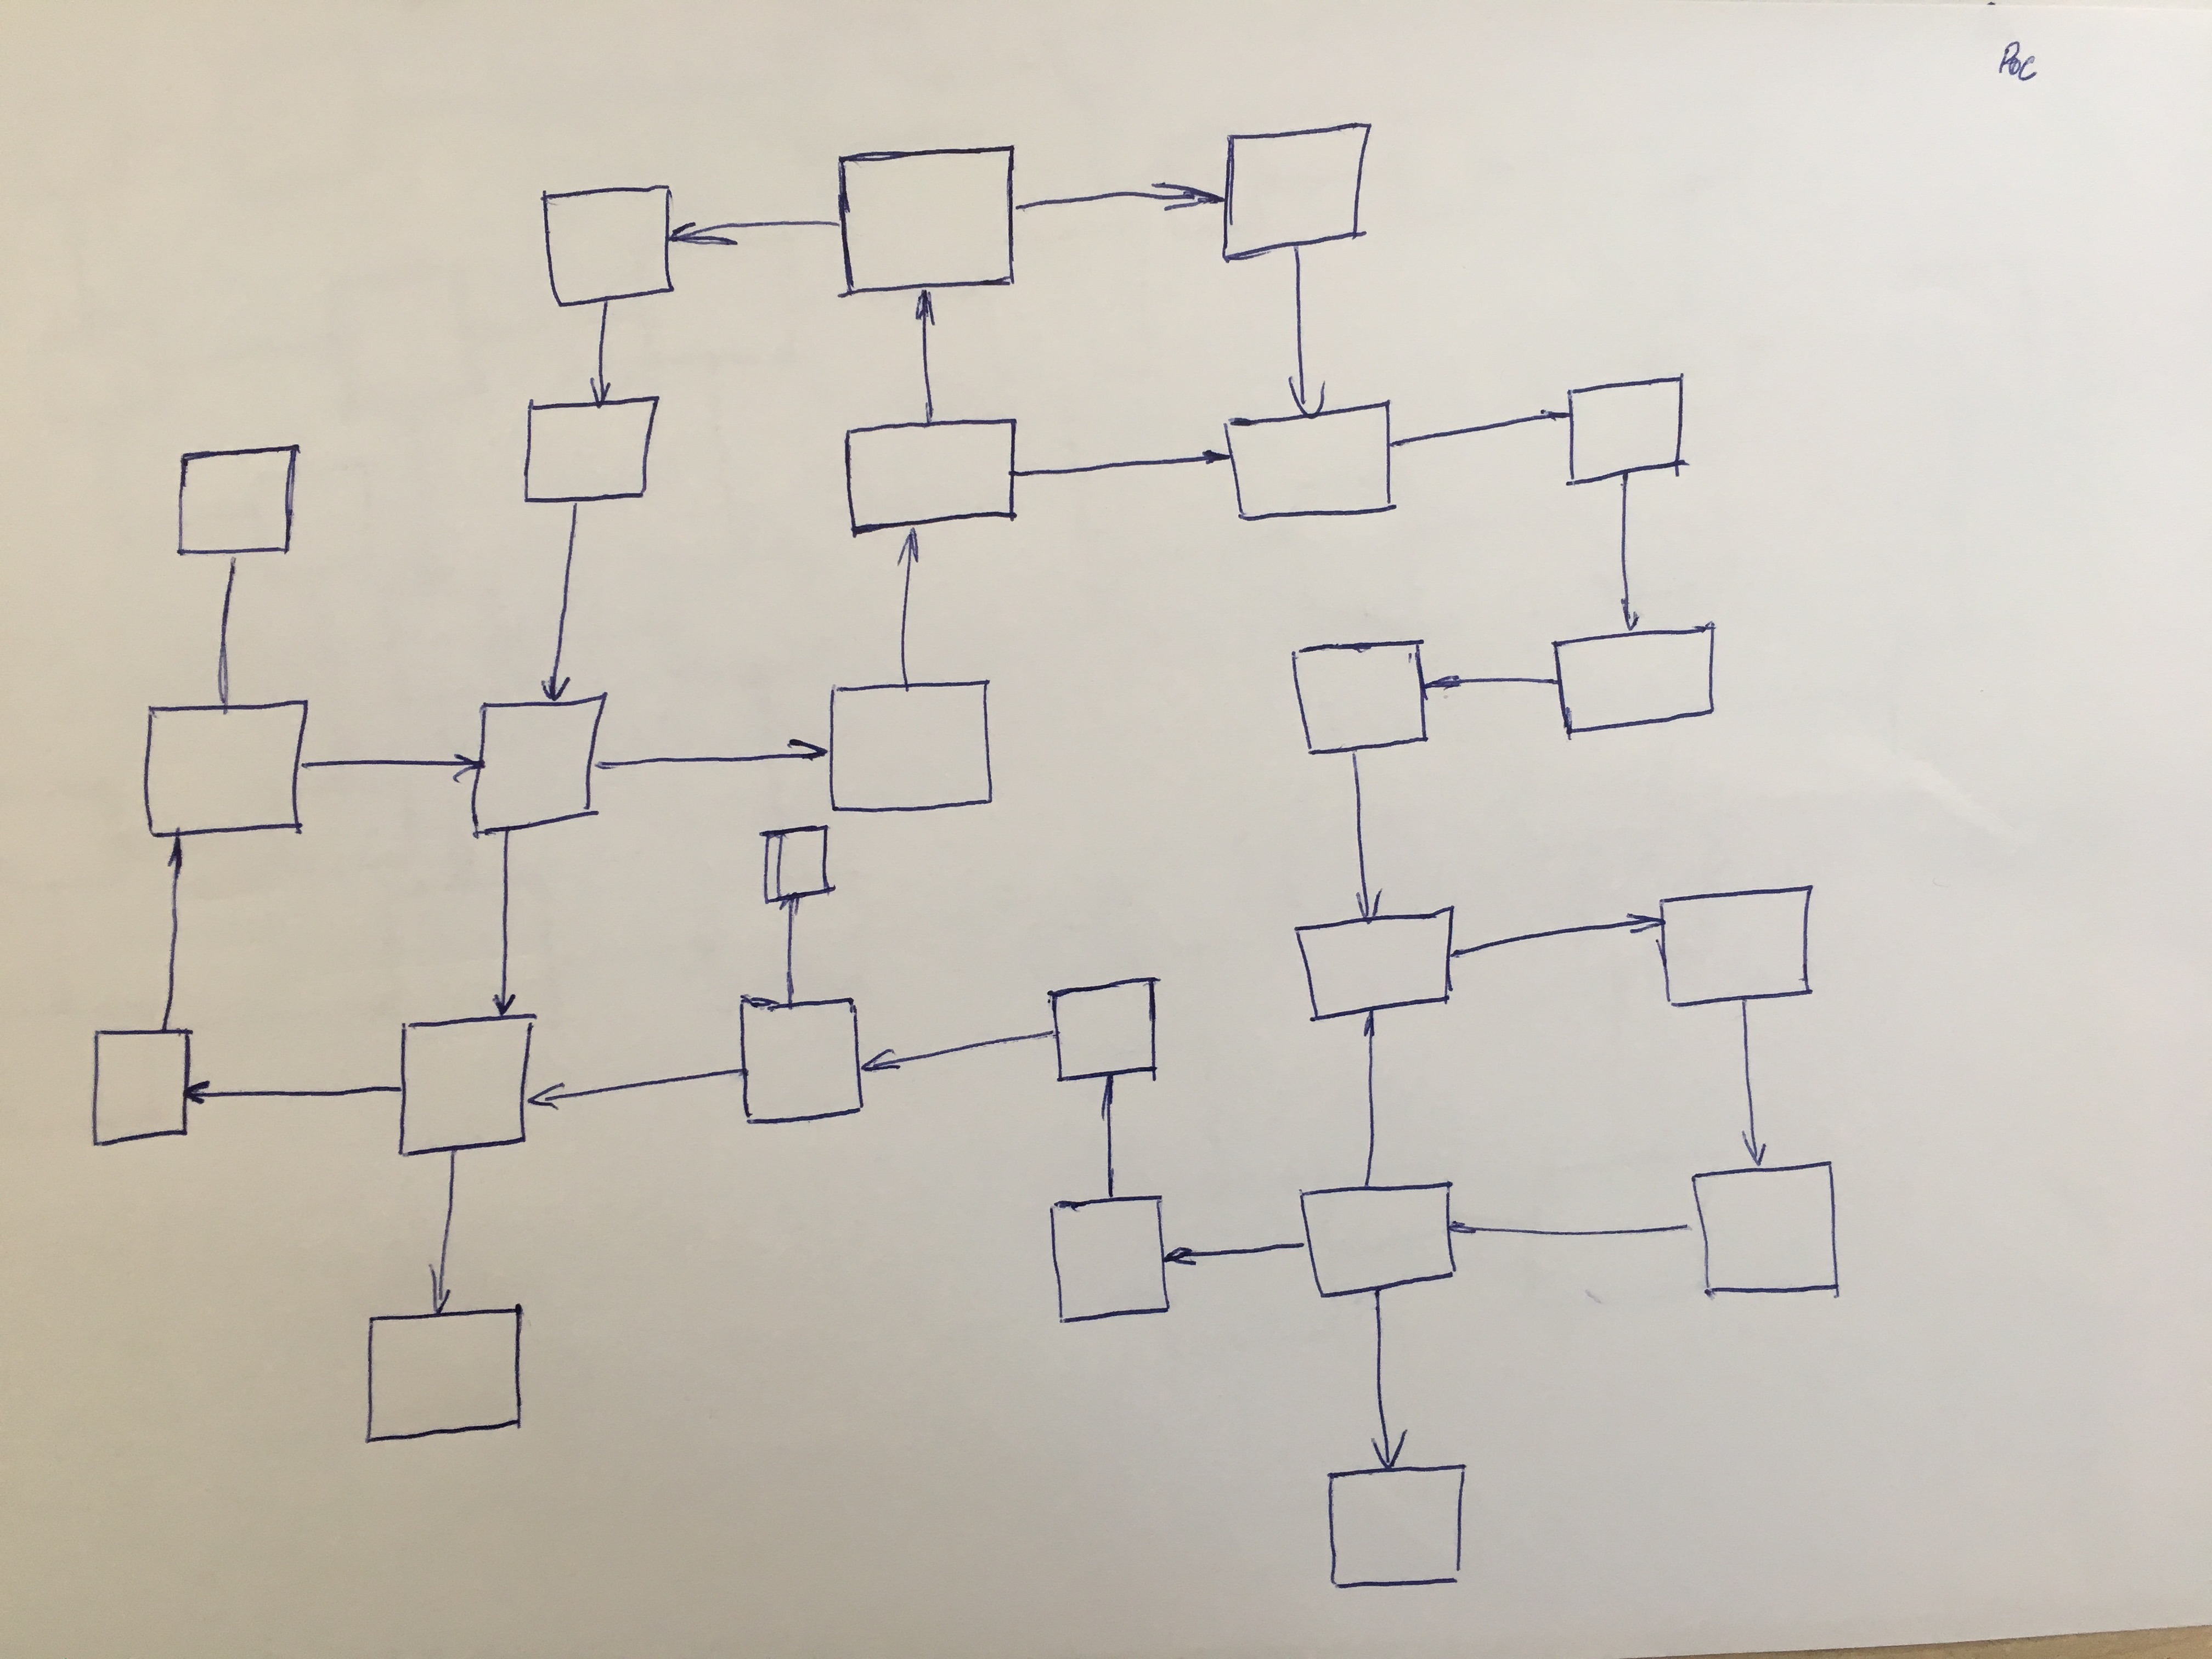arrow: (1136, 173, 1242, 227), (1280, 352, 1336, 430), (1366, 1413, 1414, 1495), (1146, 1225, 1216, 1279), (657, 216, 744, 258), (1731, 1115, 1782, 1187), (1432, 1202, 1505, 1251), (420, 1251, 463, 1333), (1608, 579, 1656, 645), (846, 1033, 913, 1080), (1350, 870, 1395, 932), (1611, 904, 1679, 946), (510, 1072, 575, 1115), (171, 1072, 230, 1119), (582, 359, 620, 430), (770, 735, 846, 770), (909, 275, 949, 336), (482, 972, 519, 1039), (535, 660, 577, 716), (1519, 401, 1585, 436), (165, 824, 200, 889), (1094, 1072, 1129, 1136), (441, 748, 493, 789), (894, 523, 928, 586), (1355, 997, 1388, 1061), (1407, 667, 1480, 695), (1191, 443, 1247, 477), (779, 887, 808, 929)
